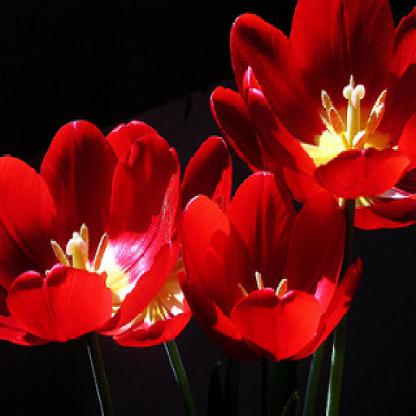TULIP: (14, 24, 396, 393)
